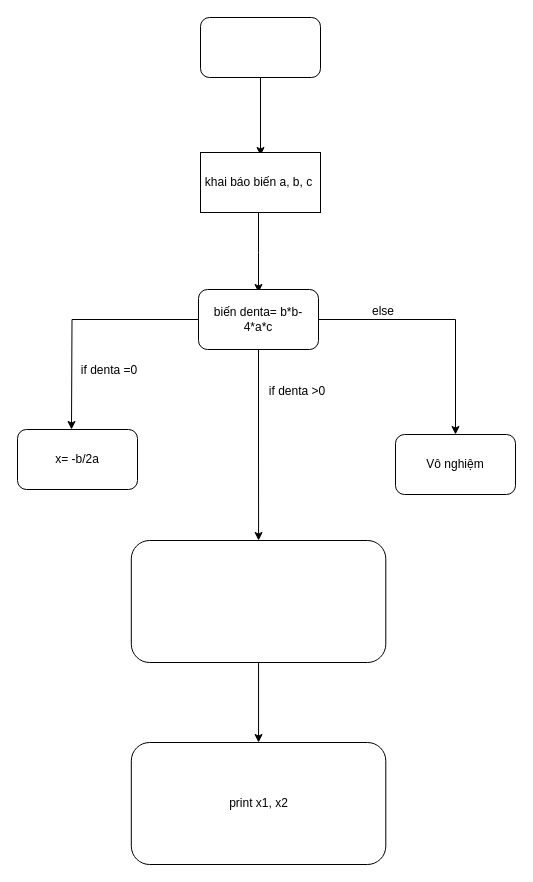
This 533x882 diagram has some shape labels left out. The centre of each missing label's shape, as x and y in pixels:
"biến x1 = (-b + √(b² - 4ac)) / (2a) biến x 2= (-b -√(b² - 4ac)) / (2a)" goes at (258,601).
"start" goes at (260,47).
